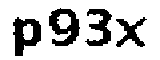3: (84, 8, 112, 49)
9: (46, 9, 80, 49)
p: (9, 16, 44, 60)
x: (115, 15, 146, 51)
